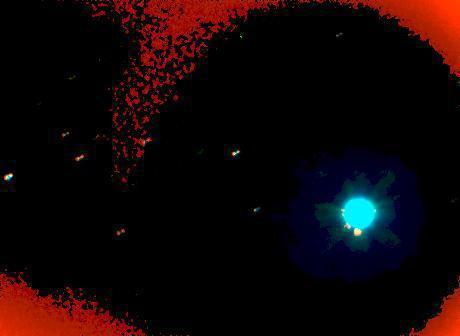star: (341, 218, 371, 248)
